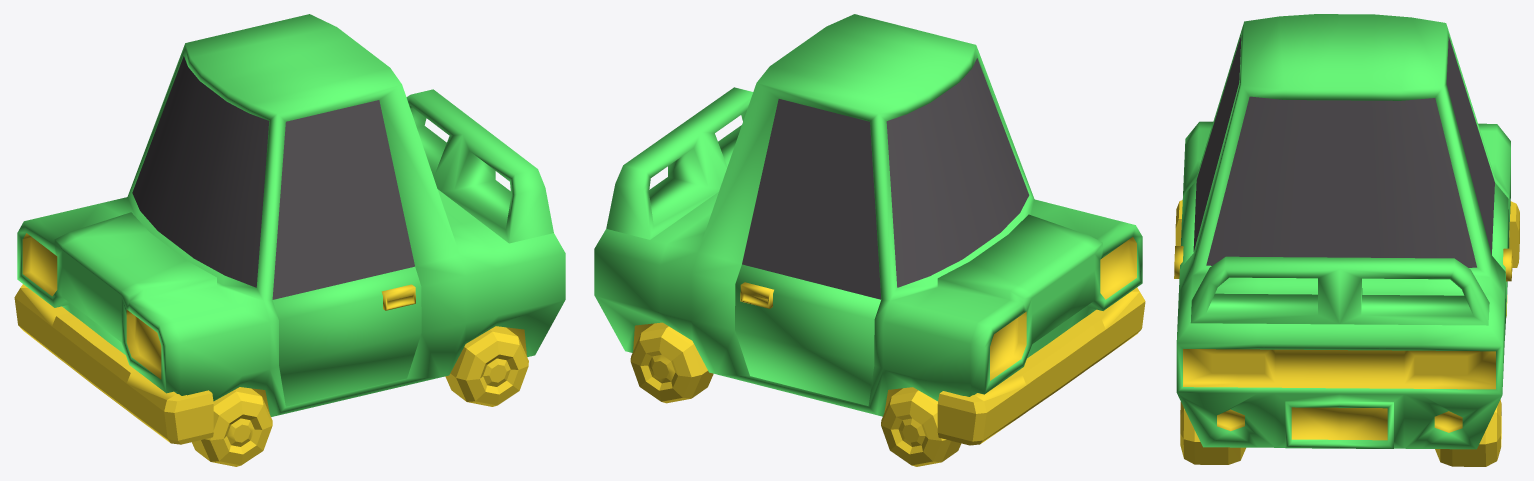
Rendered from ToyObject_121.fbx.
The picture shows the model from 3 angles, left to right: view 1: azimuth 30°, elevation 25°; view 2: azimuth 150°, elevation 25°; view 3: azimuth 270°, elevation 25°; orthographic projection. The views are drawn at different scales.
Parts seen in each view (by area): view 1: object-1.049; view 2: object-1.049; view 3: object-1.049.
Part boxes in pixels (box(x1,y1,x2,y2)): object-1.049: box(14, 14, 565, 466); object-1.049: box(594, 14, 1145, 466); object-1.049: box(1174, 14, 1519, 466).
Bounding box in the file's own units: 0.1755 × 0.1348 × 0.1233.
